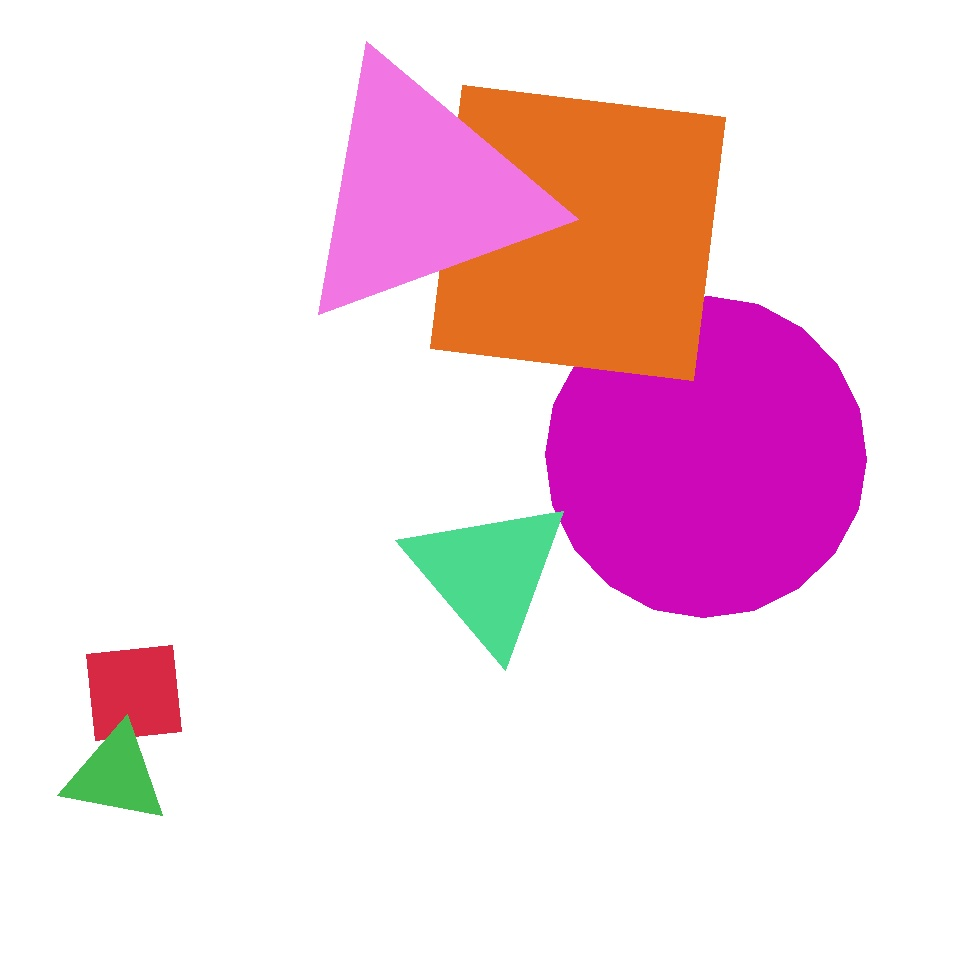circle: (291, 56, 551, 328), (708, 76, 888, 258), (404, 494, 572, 654), (64, 724, 168, 826)
square: (430, 85, 726, 380), (528, 644, 657, 774), (87, 646, 182, 740)
triangle: (41, 416, 396, 772), (546, 296, 866, 618), (590, 374, 792, 578)
